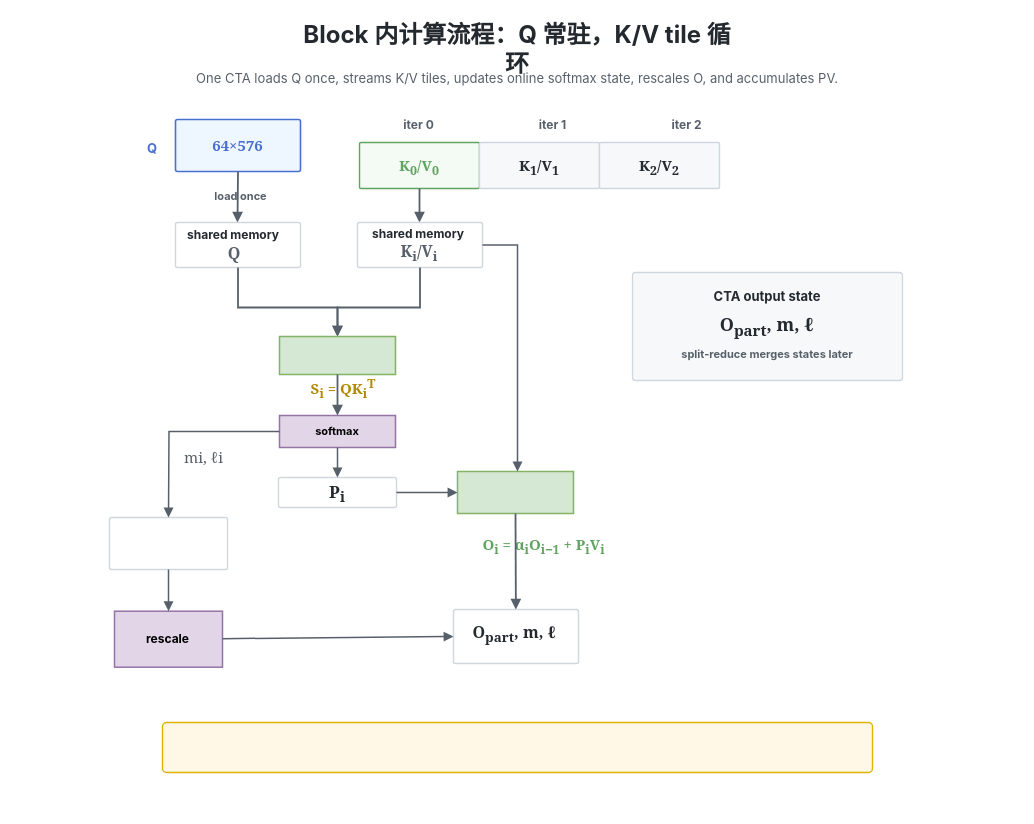
This 1034x824 diagram has some shape labels left out. The shapes that lost their labels are listed below. From the top down, each one's box as (x1, y1, x2, y2) in pixels, then its label:
(278, 335, 396, 375): GEMM 1
(456, 470, 574, 514): GEMM 2
(108, 516, 228, 570): scale old O
(161, 721, 873, 773): Q 常驻；K i /V i 流过循环；online softmax 让 partial O 可精确合并。
